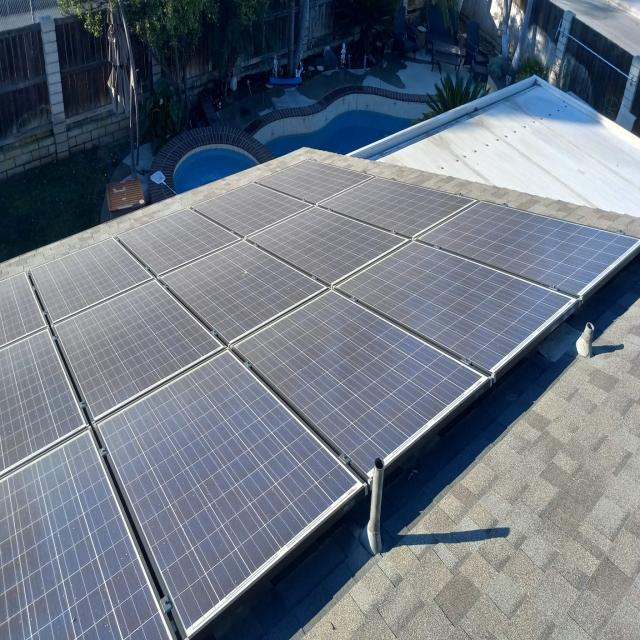dust-solar-panel: (0, 156, 638, 640)
